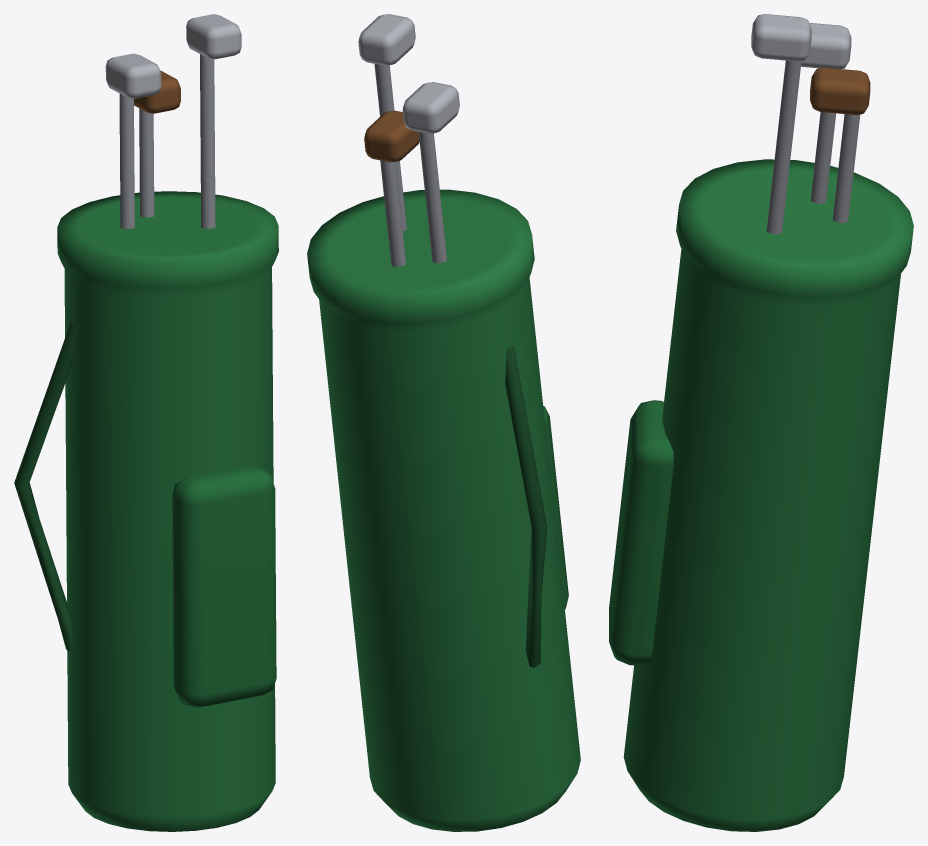
The model's file is furn_golf_bag.glb.
3 views of the same model, side by side, from view 1: azimuth 30°, elevation 25°; view 2: azimuth 150°, elevation 25°; view 3: azimuth 270°, elevation 25° (orthographic). The views are drawn at different scales.
Visible parts, largest first — view 1: furn_golf_bag_main; view 2: furn_golf_bag_main; view 3: furn_golf_bag_main.
Boxes of the visible parts, bbox=[...] form: furn_golf_bag_main: bbox=[14, 14, 278, 831]; furn_golf_bag_main: bbox=[307, 14, 580, 831]; furn_golf_bag_main: bbox=[609, 14, 913, 831].
Size of the model in its own units: 0.3886 by 1.21 by 0.4131.
